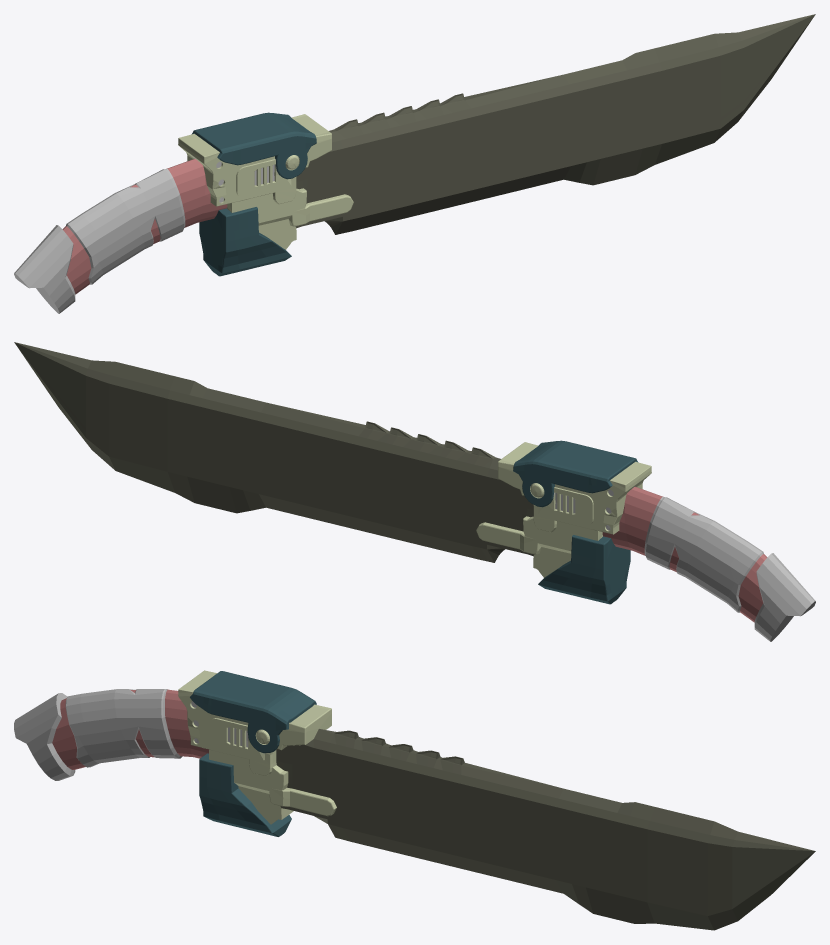
File: zombie_sword_fixed.fbx
The picture shows the model from 3 angles, top to bottom: view 1: azimuth 30°, elevation 25°; view 2: azimuth 150°, elevation 25°; view 3: azimuth 330°, elevation 25°; orthographic projection.
Parts seen in each view (by area): view 1: pCylinder6; view 2: pCylinder6; view 3: pCylinder6.
Boxes of the visible parts, left/top/right/bottom form: pCylinder6: left=14, top=14, right=815, bottom=313; pCylinder6: left=14, top=342, right=815, bottom=641; pCylinder6: left=14, top=670, right=815, bottom=930.
Bounding box in the file's own units: 9.77 × 1.63 × 0.6802.
